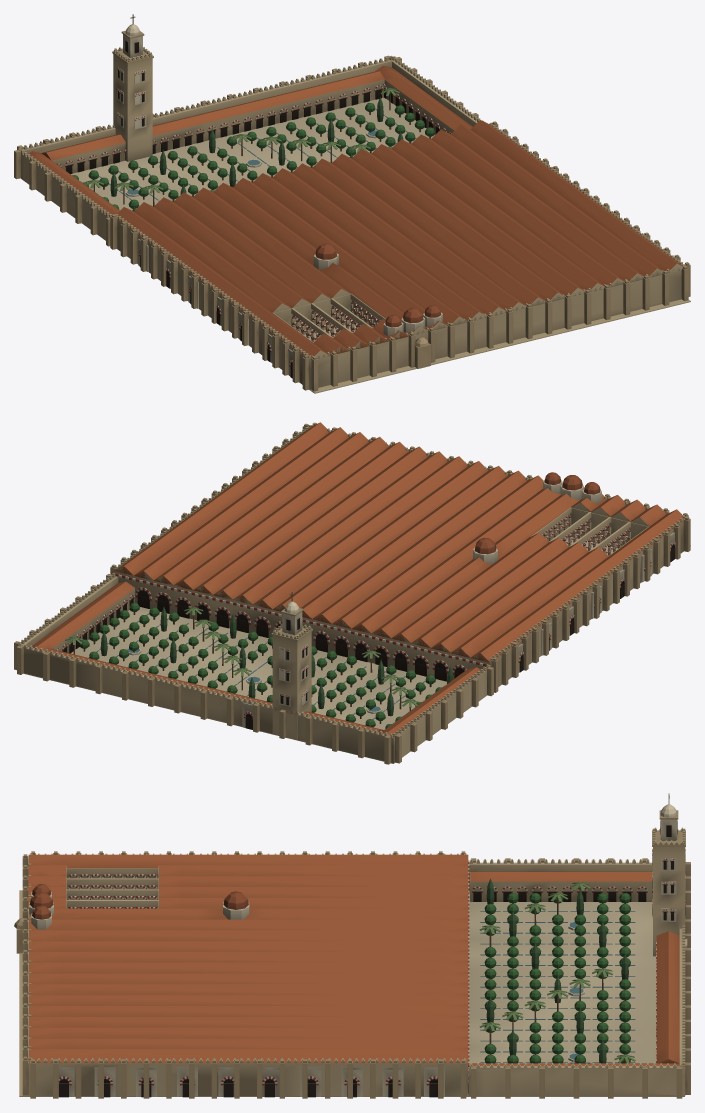
Rendered from mezquita-1300.glb.
3 views of the same model, one above another, from view 1: azimuth 30°, elevation 25°; view 2: azimuth 150°, elevation 25°; view 3: azimuth 270°, elevation 25° (orthographic). The views are drawn at different scales.
Parts seen in each view (by area): view 1: p1_hall, p2_tower, p0_ground; view 2: p1_hall, p2_tower, p0_ground; view 3: p1_hall, p2_tower, p0_ground.
Part boxes in pixels (x1,y1,x2,y2): p1_hall: (14,55,690,391); p2_tower: (112,14,442,336); p0_ground: (21,178,690,393); p1_hall: (14,422,690,764); p2_tower: (271,472,601,739); p0_ground: (23,537,690,763); p1_hall: (14,851,690,1098); p2_tower: (29,793,685,956); p0_ground: (19,890,684,1096).
Bounding box in the file's own units: 133 × 46.4 × 181.
